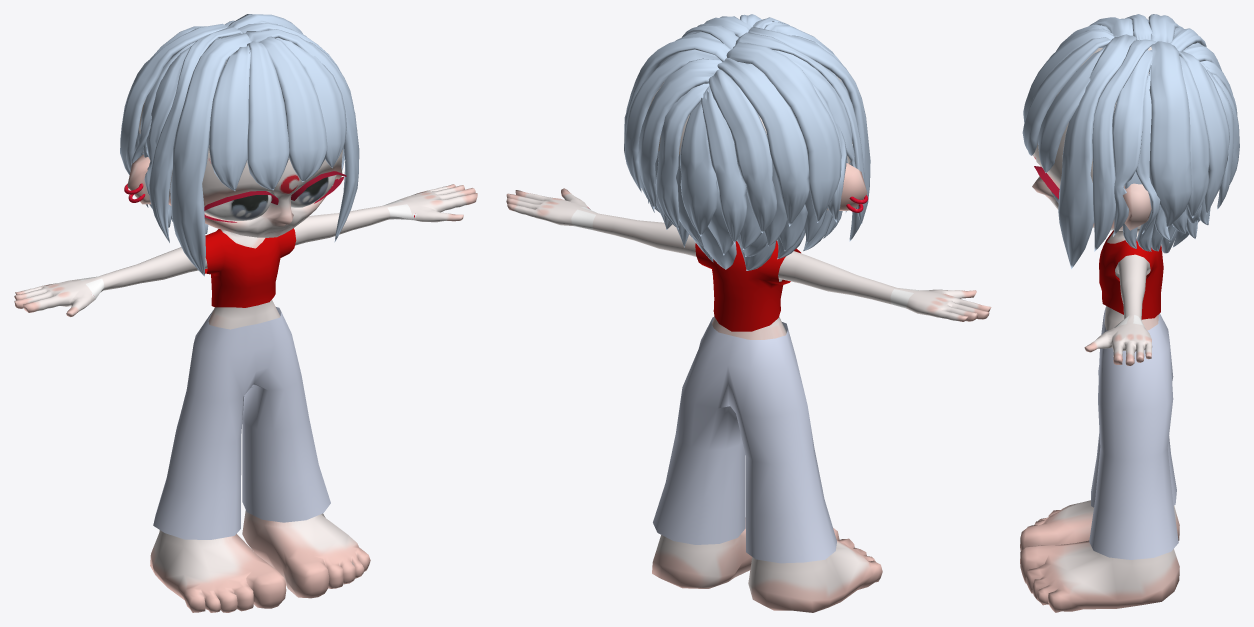
The model's file is Аи единая модель.fbx.
3 views of the same model, side by side, from view 1: azimuth 30°, elevation 25°; view 2: azimuth 150°, elevation 25°; view 3: azimuth 270°, elevation 25° (orthographic). The views are drawn at different scales.
Visible parts, largest first — view 1: Body.002; view 2: Body.002; view 3: Body.002.
Boxes of the visible parts, box(x1,y1,x2,y2) form: Body.002: box(14, 14, 477, 612); Body.002: box(506, 14, 991, 612); Body.002: box(1020, 14, 1239, 612).
Bounding box in the file's own units: 400 × 446 × 164.
